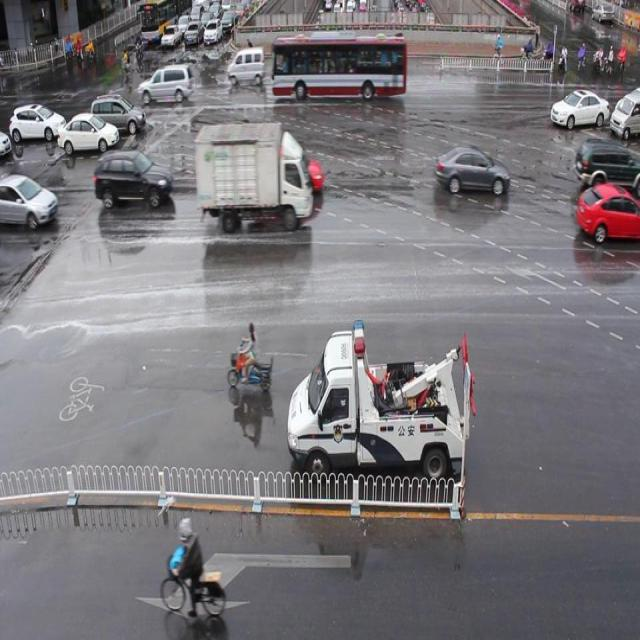bus: (193, 125, 311, 226)
car: (95, 149, 171, 209), (433, 144, 508, 199), (574, 184, 640, 245), (574, 136, 640, 194), (260, 149, 324, 195), (549, 86, 607, 130)
truck: (226, 48, 265, 87)
van: (274, 36, 406, 99)
